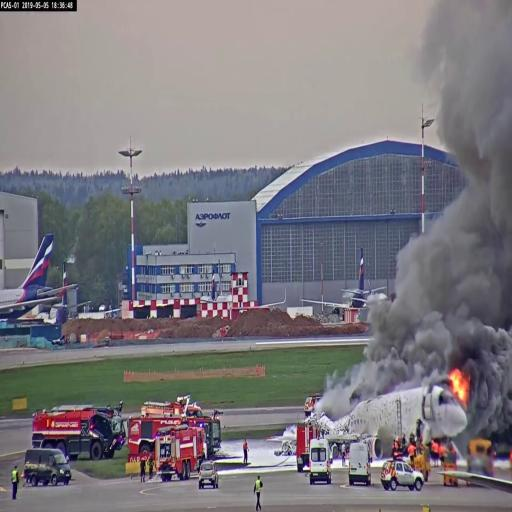fire: (448, 368, 466, 405)
smoke: (402, 217, 508, 338), (455, 0, 512, 206), (366, 294, 446, 378), (473, 325, 512, 420)
